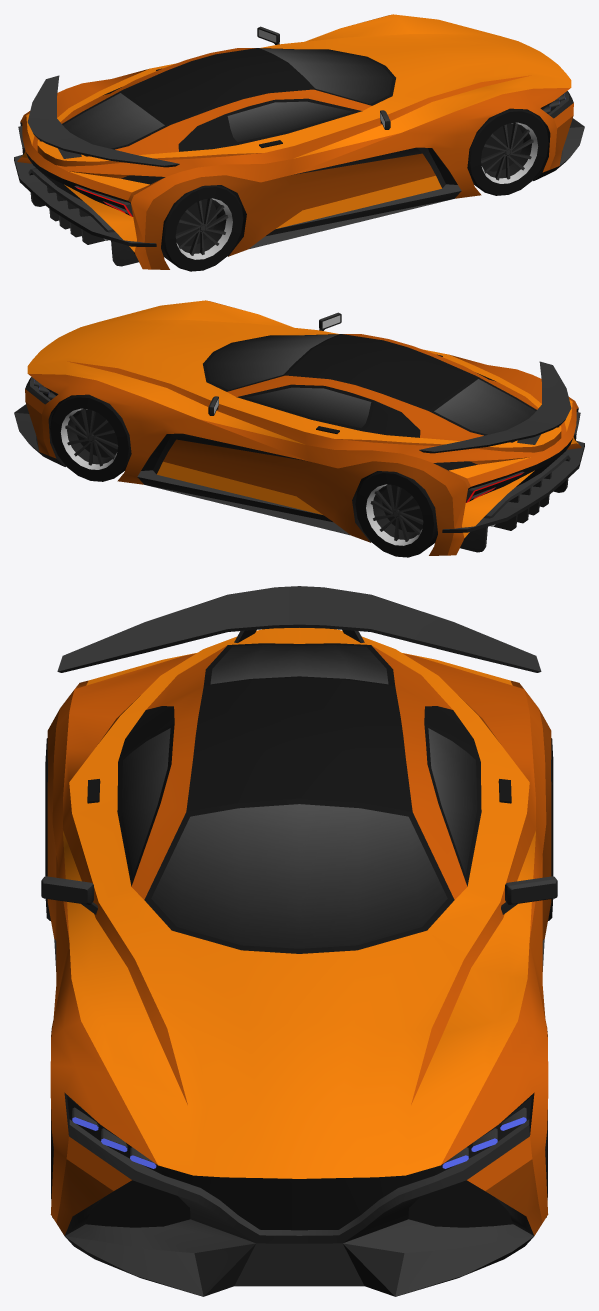
Rendered from Car_111.glb.
The picture shows the model from 3 angles, top to bottom: view 1: azimuth 30°, elevation 25°; view 2: azimuth 150°, elevation 25°; view 3: azimuth 270°, elevation 25°; orthographic projection. The views are drawn at different scales.
Parts seen in each view (by area): view 1: Car_111, wheel_3_Car_111_Wheel_2R, wheel_1_Car_111_Wheel_1R; view 2: Car_111, wheel_2_Car_111_Wheel_2L, wheel_0_Car_111_Wheel_1L; view 3: Car_111.
Boxes of the visible parts, box(x1,y1,x2,y2) form: Car_111: box(14, 14, 584, 269); wheel_3_Car_111_Wheel_2R: box(161, 185, 243, 271); wheel_1_Car_111_Wheel_1R: box(467, 108, 548, 195); Car_111: box(14, 300, 584, 555); wheel_2_Car_111_Wheel_2L: box(355, 471, 437, 557); wheel_0_Car_111_Wheel_1L: box(50, 394, 131, 481); Car_111: box(41, 586, 557, 1296).
Size of the model in its own units: 4.92 by 1.18 by 2.1.
Materials: 3 (3 with a texture image).
